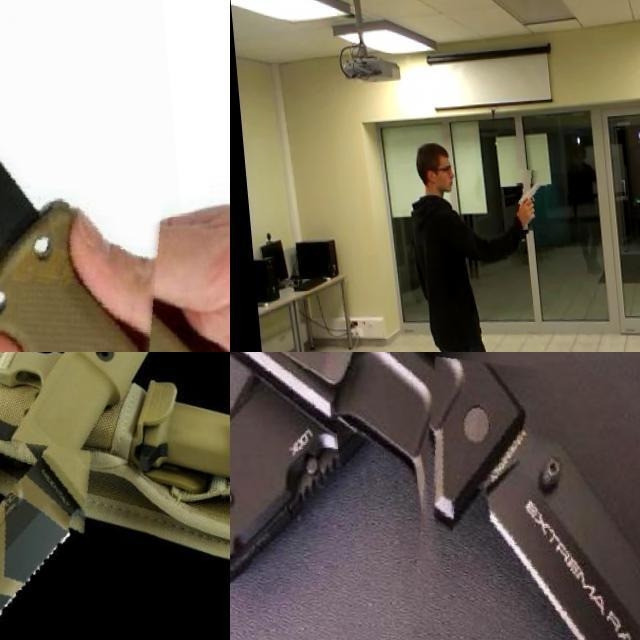-: (0, 0, 230, 352), (379, 359, 640, 640), (0, 420, 156, 640)
gun-knife-thesis - v11 Yolov5 augmented: (506, 172, 544, 236)
